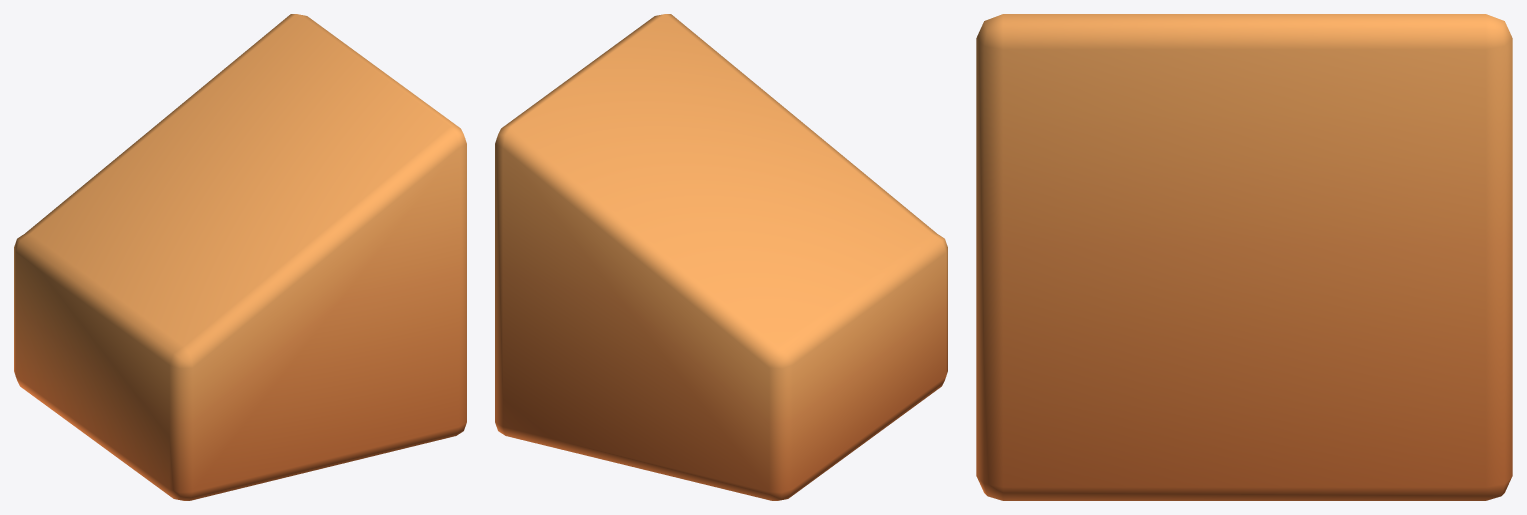
The model's file is 3D_Tile_Ground_Slope_02A.glb.
3 renders of one model, left to right at view 1: azimuth 30°, elevation 25°; view 2: azimuth 150°, elevation 25°; view 3: azimuth 270°, elevation 25°, orthographic. The views are drawn at different scales.
Parts seen in each view (by area): view 1: 3D_Tile_Ground_Slope_02A; view 2: 3D_Tile_Ground_Slope_02A; view 3: 3D_Tile_Ground_Slope_02A.
Boxes of the visible parts, x1,y1,x2,y2 form: 3D_Tile_Ground_Slope_02A: (14, 14, 466, 500); 3D_Tile_Ground_Slope_02A: (495, 14, 947, 500); 3D_Tile_Ground_Slope_02A: (976, 14, 1512, 500).
Bounding box in the file's own units: 2 × 2 × 2.
Materials: 1 (1 with a texture image).
